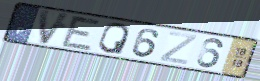6: (196, 37, 225, 69), (131, 28, 160, 58)
E: (59, 14, 103, 53)
Q: (96, 22, 132, 56)
V: (37, 7, 74, 47)
Z: (157, 30, 199, 66)
